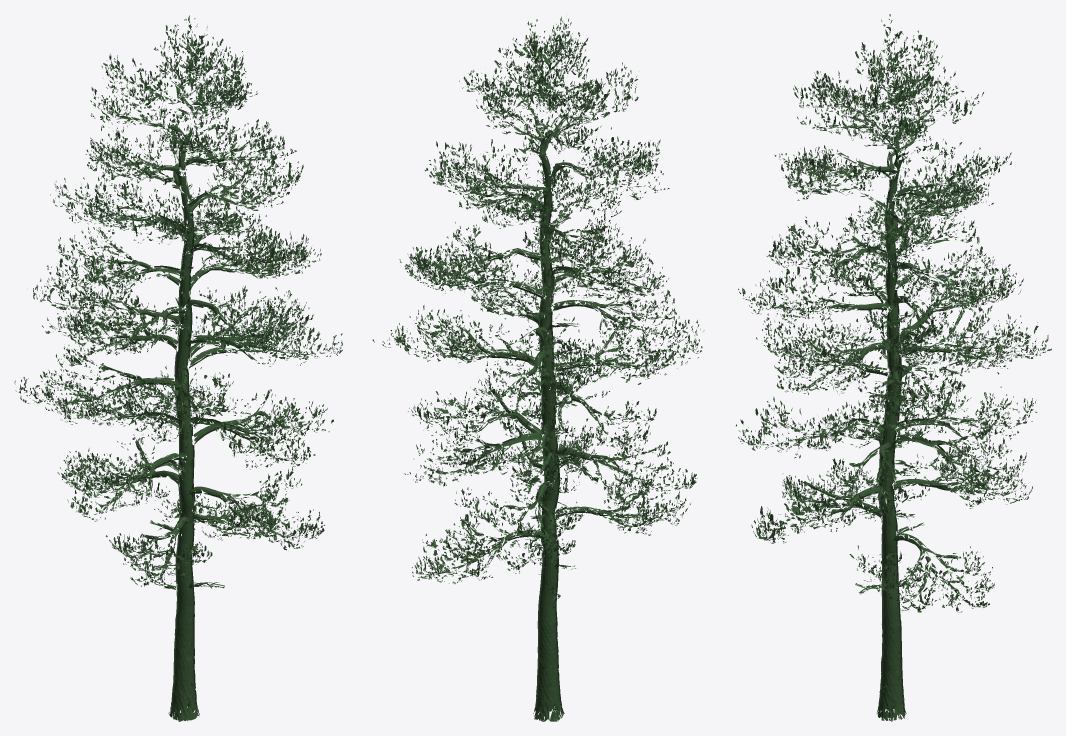
File: gen-tree-conifer-1.glb
The picture shows the model from 3 angles, left to right: view 1: azimuth 30°, elevation 25°; view 2: azimuth 150°, elevation 25°; view 3: azimuth 270°, elevation 25°; orthographic projection.
Visible parts, largest first — view 1: gen-tree-conifer-1_part1; view 2: gen-tree-conifer-1_part1; view 3: gen-tree-conifer-1_part1.
Part boxes in pixels (box(x1,y1,x2,y2)): gen-tree-conifer-1_part1: box(14, 15, 342, 721); gen-tree-conifer-1_part1: box(372, 16, 704, 721); gen-tree-conifer-1_part1: box(736, 14, 1051, 721).
Size of the model in its own units: 3837 by 9000 by 3717.
